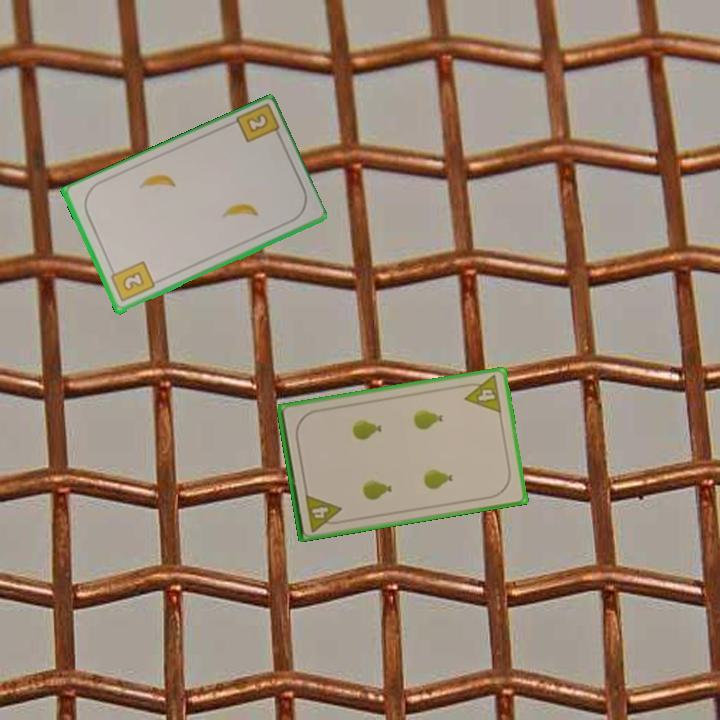2b: (106, 258, 157, 305), (231, 103, 283, 146)
4p: (459, 372, 504, 416), (302, 490, 345, 535)
